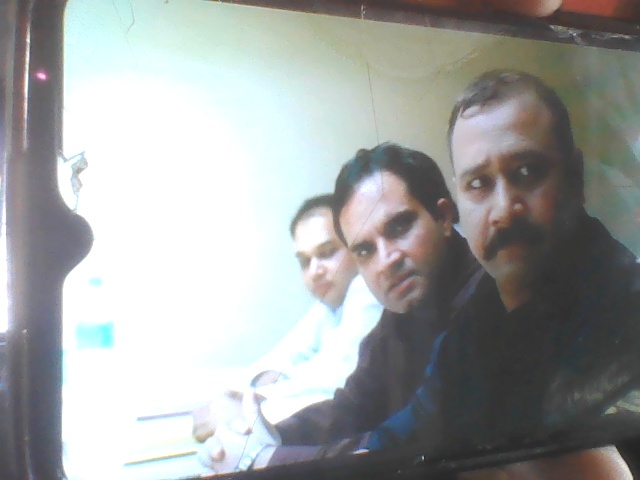fake: (436, 60, 602, 296), (324, 134, 463, 331)
